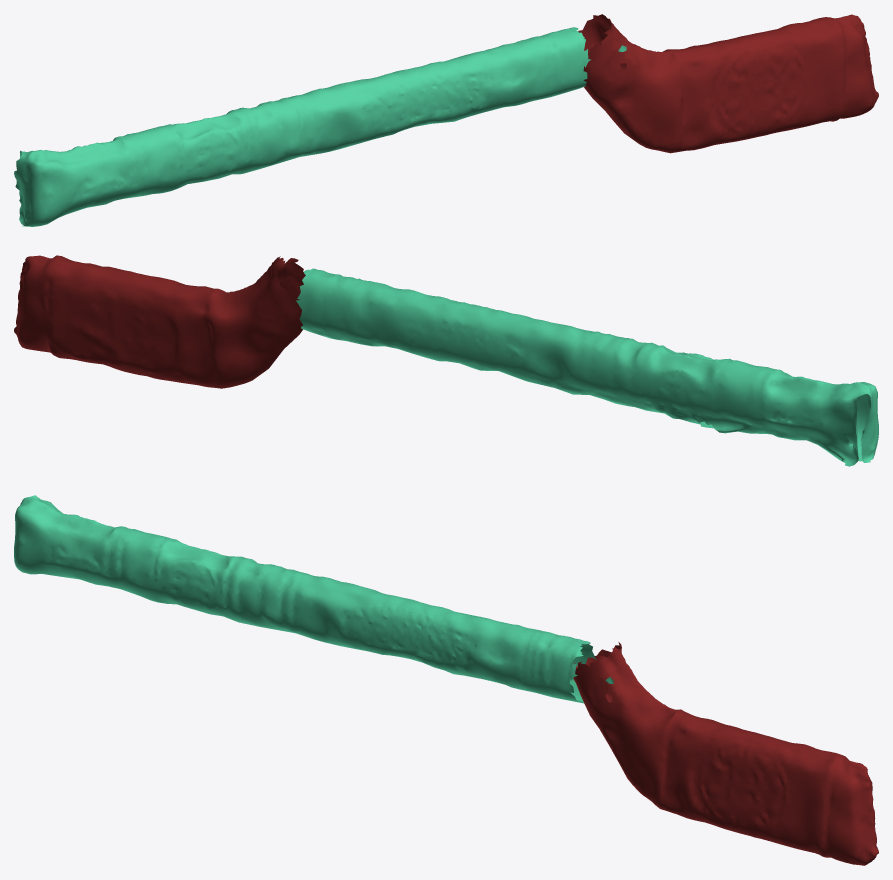
File: object_deformed_7.obj
3 views of the same model, one above another, from view 1: azimuth 30°, elevation 25°; view 2: azimuth 150°, elevation 25°; view 3: azimuth 330°, elevation 25° (orthographic).
Size of the model in its own units: 0.6291 by 0.1157 by 0.0383.
